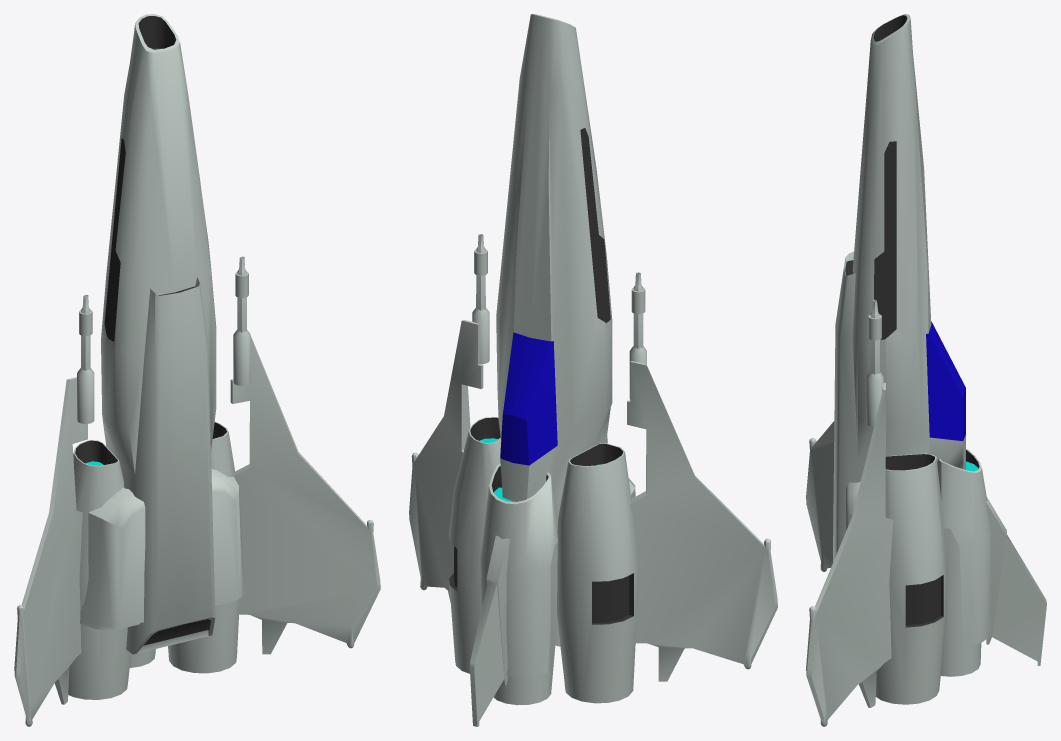
The model's file is Dvergr.fbx.
3 views of the same model, side by side, from view 1: azimuth 30°, elevation 25°; view 2: azimuth 150°, elevation 25°; view 3: azimuth 270°, elevation 25° (orthographic). The views are drawn at different scales.
Visible parts, largest first — view 1: Viper1Body; view 2: Viper1Body; view 3: Viper1Body.
Part boxes in pixels (x1=…): Viper1Body: x1=14, y1=14, x2=380, y2=726; Viper1Body: x1=409, y1=14, x2=777, y2=726; Viper1Body: x1=806, y1=14, x2=1046, y2=726.
Bounding box in the file's own units: 672 × 1158 × 391.
